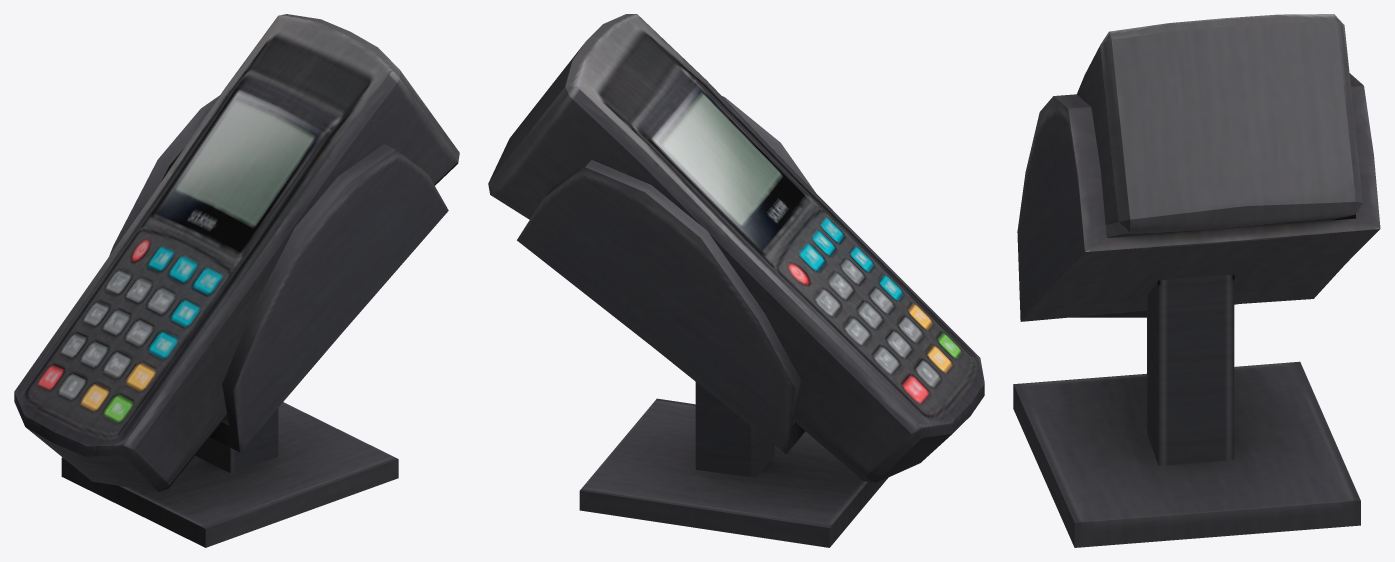
File: BianLiDian_01_posji_01.FBX
3 views of the same model, side by side, from view 1: azimuth 30°, elevation 25°; view 2: azimuth 150°, elevation 25°; view 3: azimuth 270°, elevation 25° (orthographic). The views are drawn at different scales.
Visible parts, largest first — view 1: BianLiDian_01_posji_01; view 2: BianLiDian_01_posji_01; view 3: BianLiDian_01_posji_01.
Boxes of the visible parts, x1,y1,x2,y2 form: BianLiDian_01_posji_01: [14, 14, 459, 547]; BianLiDian_01_posji_01: [488, 14, 984, 547]; BianLiDian_01_posji_01: [1013, 14, 1380, 547].
Bounding box in the file's own units: 150 × 141 × 88.56.
